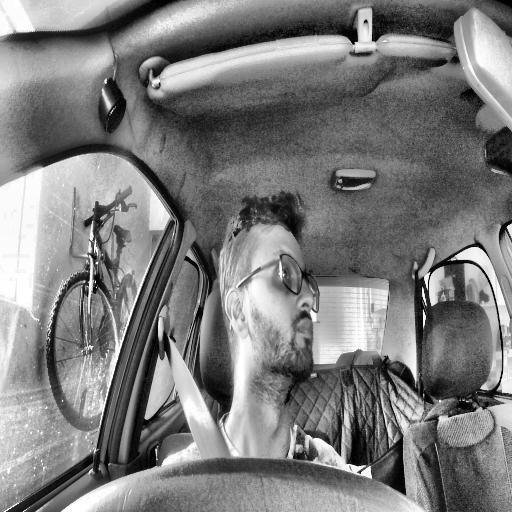awake: (218, 189, 321, 399)
